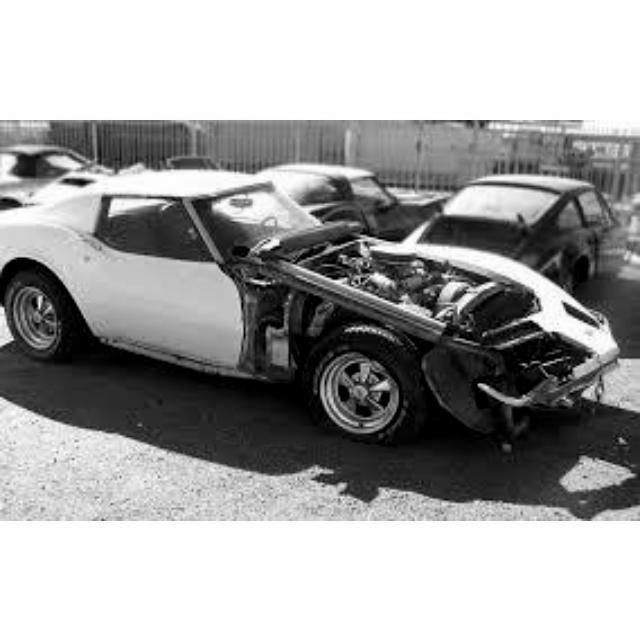bonnet-dent: (316, 233, 530, 320)
front-bumper-dent: (490, 320, 613, 394)
